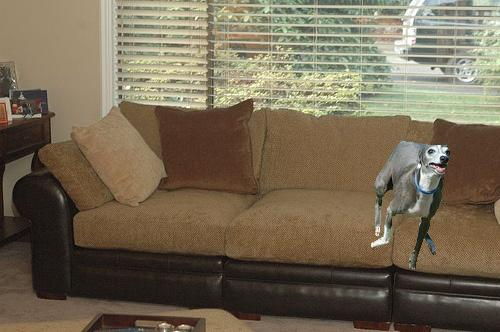tampered: (372, 142, 450, 269)
